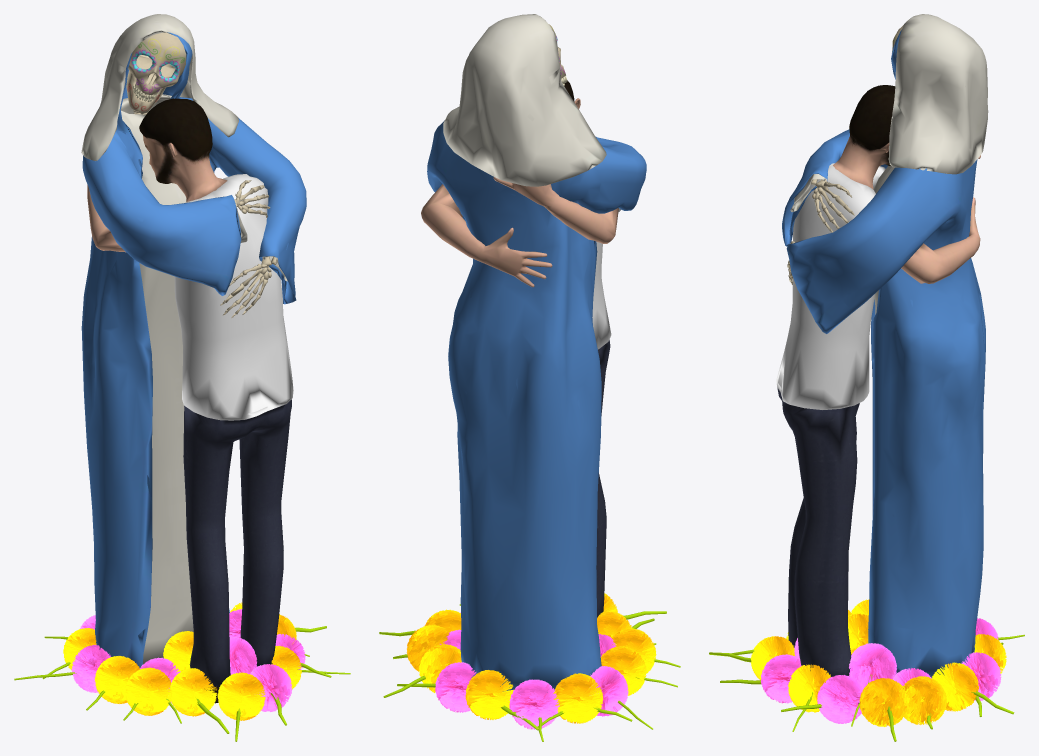
Rendered from marys_hug-transformed.glb.
3 renders of one model, left to right at view 1: azimuth 30°, elevation 25°; view 2: azimuth 150°, elevation 25°; view 3: azimuth 270°, elevation 25°, orthographic. The views are drawn at different scales.
Parts seen in each view (by area): view 1: Outer_cape.004, Man_Mesh.000, Dress.003, Skull.011, Flower_yellow.026, Flower_yellow.034, Skull.013, Flower_yellow.030, Flower_yellow.029, Flower_pink.024, Flower_pink.030, Flower_yellow.035 (+3 smaller); view 2: Outer_cape.004, Man_Mesh.000, Flower_yellow.031, Flower_pink.023, Flower_yellow.032, Flower_pink.026, Flower_yellow.029, Flower_pink.030, Flower_yellow.024, Flower_yellow.033, Flower_yellow.034, Flower_yellow.030 (+1 smaller); view 3: Outer_cape.004, Man_Mesh.000, Flower_yellow.027, Flower_pink.027, Flower_yellow.033, Flower_pink.028, Flower_yellow.024, Flower_pink.024, Flower_yellow.028, Flower_pink.026, Skull.013, Flower_yellow.026 (+3 smaller).
Part boxes in pixels (x1,y1,x2,y2): Outer_cape.004: (81,14,306,667); Man_Mesh.000: (87,98,293,703); Dress.003: (120,94,287,664); Skull.011: (126,32,186,113); Flower_yellow.026: (217,672,265,720); Flower_yellow.034: (125,667,171,715); Skull.013: (220,180,277,318); Flower_yellow.030: (169,668,217,716); Flower_yellow.029: (94,656,139,703); Flower_pink.024: (250,664,292,711); Flower_pink.030: (71,645,110,692); Flower_yellow.035: (163,631,193,672); Outer_cape.004: (427,14,646,692); Man_Mesh.000: (421,80,620,617); Flower_yellow.031: (553,673,603,723); Flower_pink.023: (509,679,559,729); Flower_yellow.032: (465,670,513,719); Flower_pink.026: (435,662,476,712); Flower_yellow.029: (600,646,646,695); Flower_pink.030: (590,666,628,716); Flower_yellow.024: (419,644,461,692); Flower_yellow.033: (406,625,449,671); Flower_yellow.034: (611,628,656,673); Flower_yellow.030: (597,611,632,637); Outer_cape.004: (782,14,988,677); Man_Mesh.000: (776,85,980,703); Flower_yellow.027: (859,678,906,726); Flower_pink.027: (817,675,863,723); Flower_yellow.033: (902,676,946,724); Flower_pink.028: (849,643,896,688); Flower_yellow.024: (932,662,978,711); Flower_pink.024: (761,654,801,703); Flower_yellow.028: (788,664,830,712); Flower_pink.026: (961,652,1001,700); Skull.013: (787,179,854,284); Flower_yellow.026: (751,636,794,680).
Size of what is drawn, in the model's own units: 0.8936 by 1.94 by 0.8374.
Materials: 5 (5 with a texture image).
